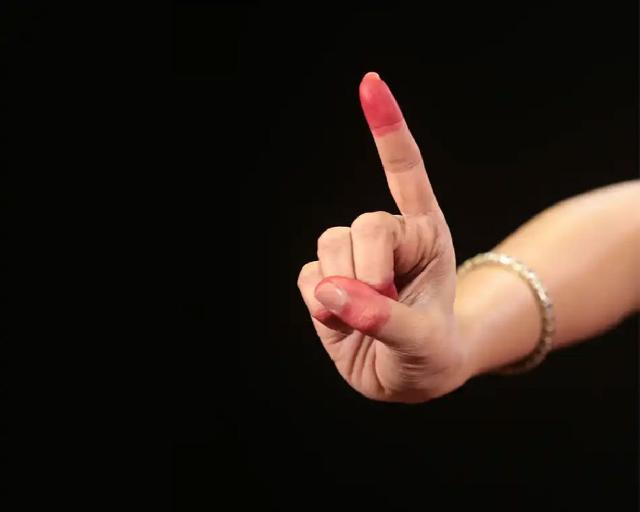soochi: (299, 76, 550, 404)
